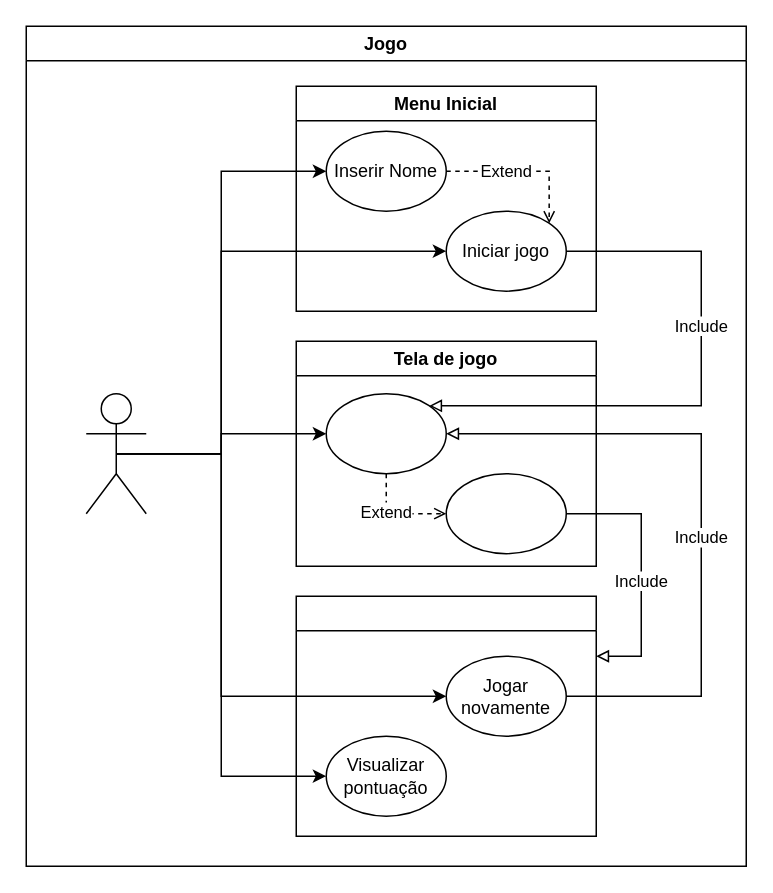
Image size: 773x893. Some labels were removed from this diagram. Here are the shapes that lost their labels. From the top down, the box of each, then its label:
(85, 392, 146, 514): Jogador
(325, 392, 446, 474): Jogo da memoria
(445, 472, 566, 554): Finalizar jogo
(295, 595, 596, 836): Menu final
